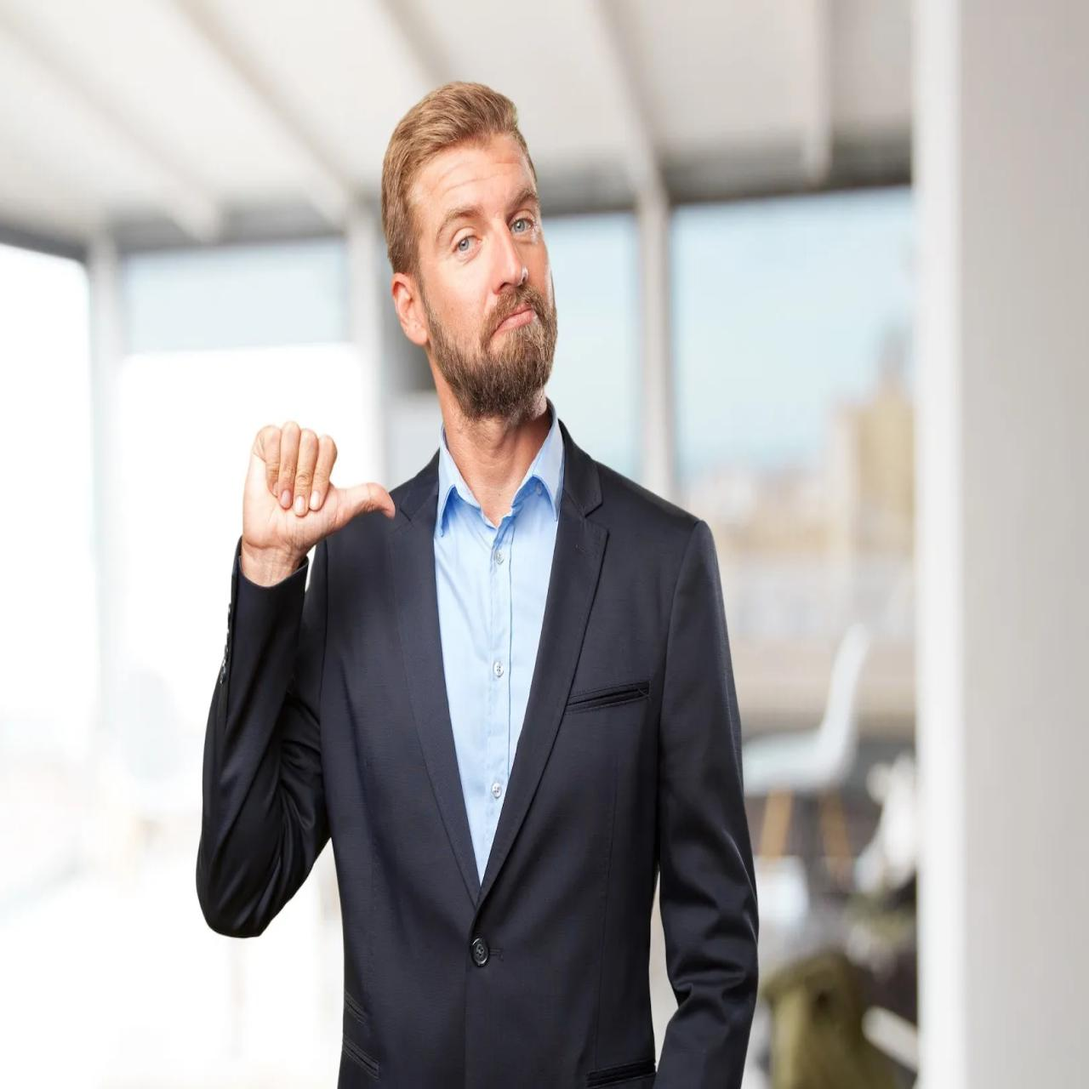NO_Safety_Vest: (319, 486, 704, 1078)
Person: (185, 43, 782, 1066)
